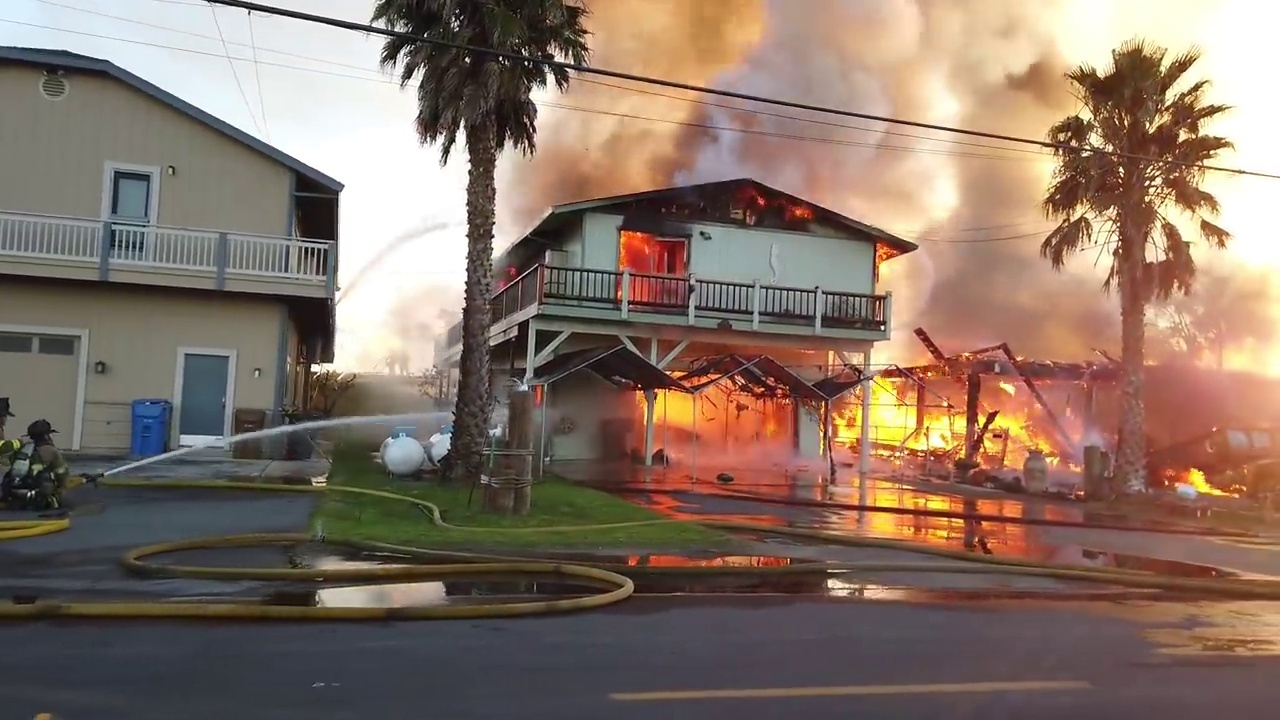fire: (832, 372, 1053, 457), (654, 375, 794, 433), (618, 227, 687, 306), (1164, 465, 1248, 500), (733, 185, 768, 212), (874, 241, 903, 271), (788, 192, 816, 218), (315, 359, 353, 373), (531, 383, 541, 408)
smoke: (764, 1, 1064, 193), (517, 1, 760, 182), (904, 195, 1128, 362), (1169, 161, 1279, 425), (339, 265, 461, 376), (674, 433, 824, 481), (1053, 381, 1118, 447), (987, 458, 1085, 500)
